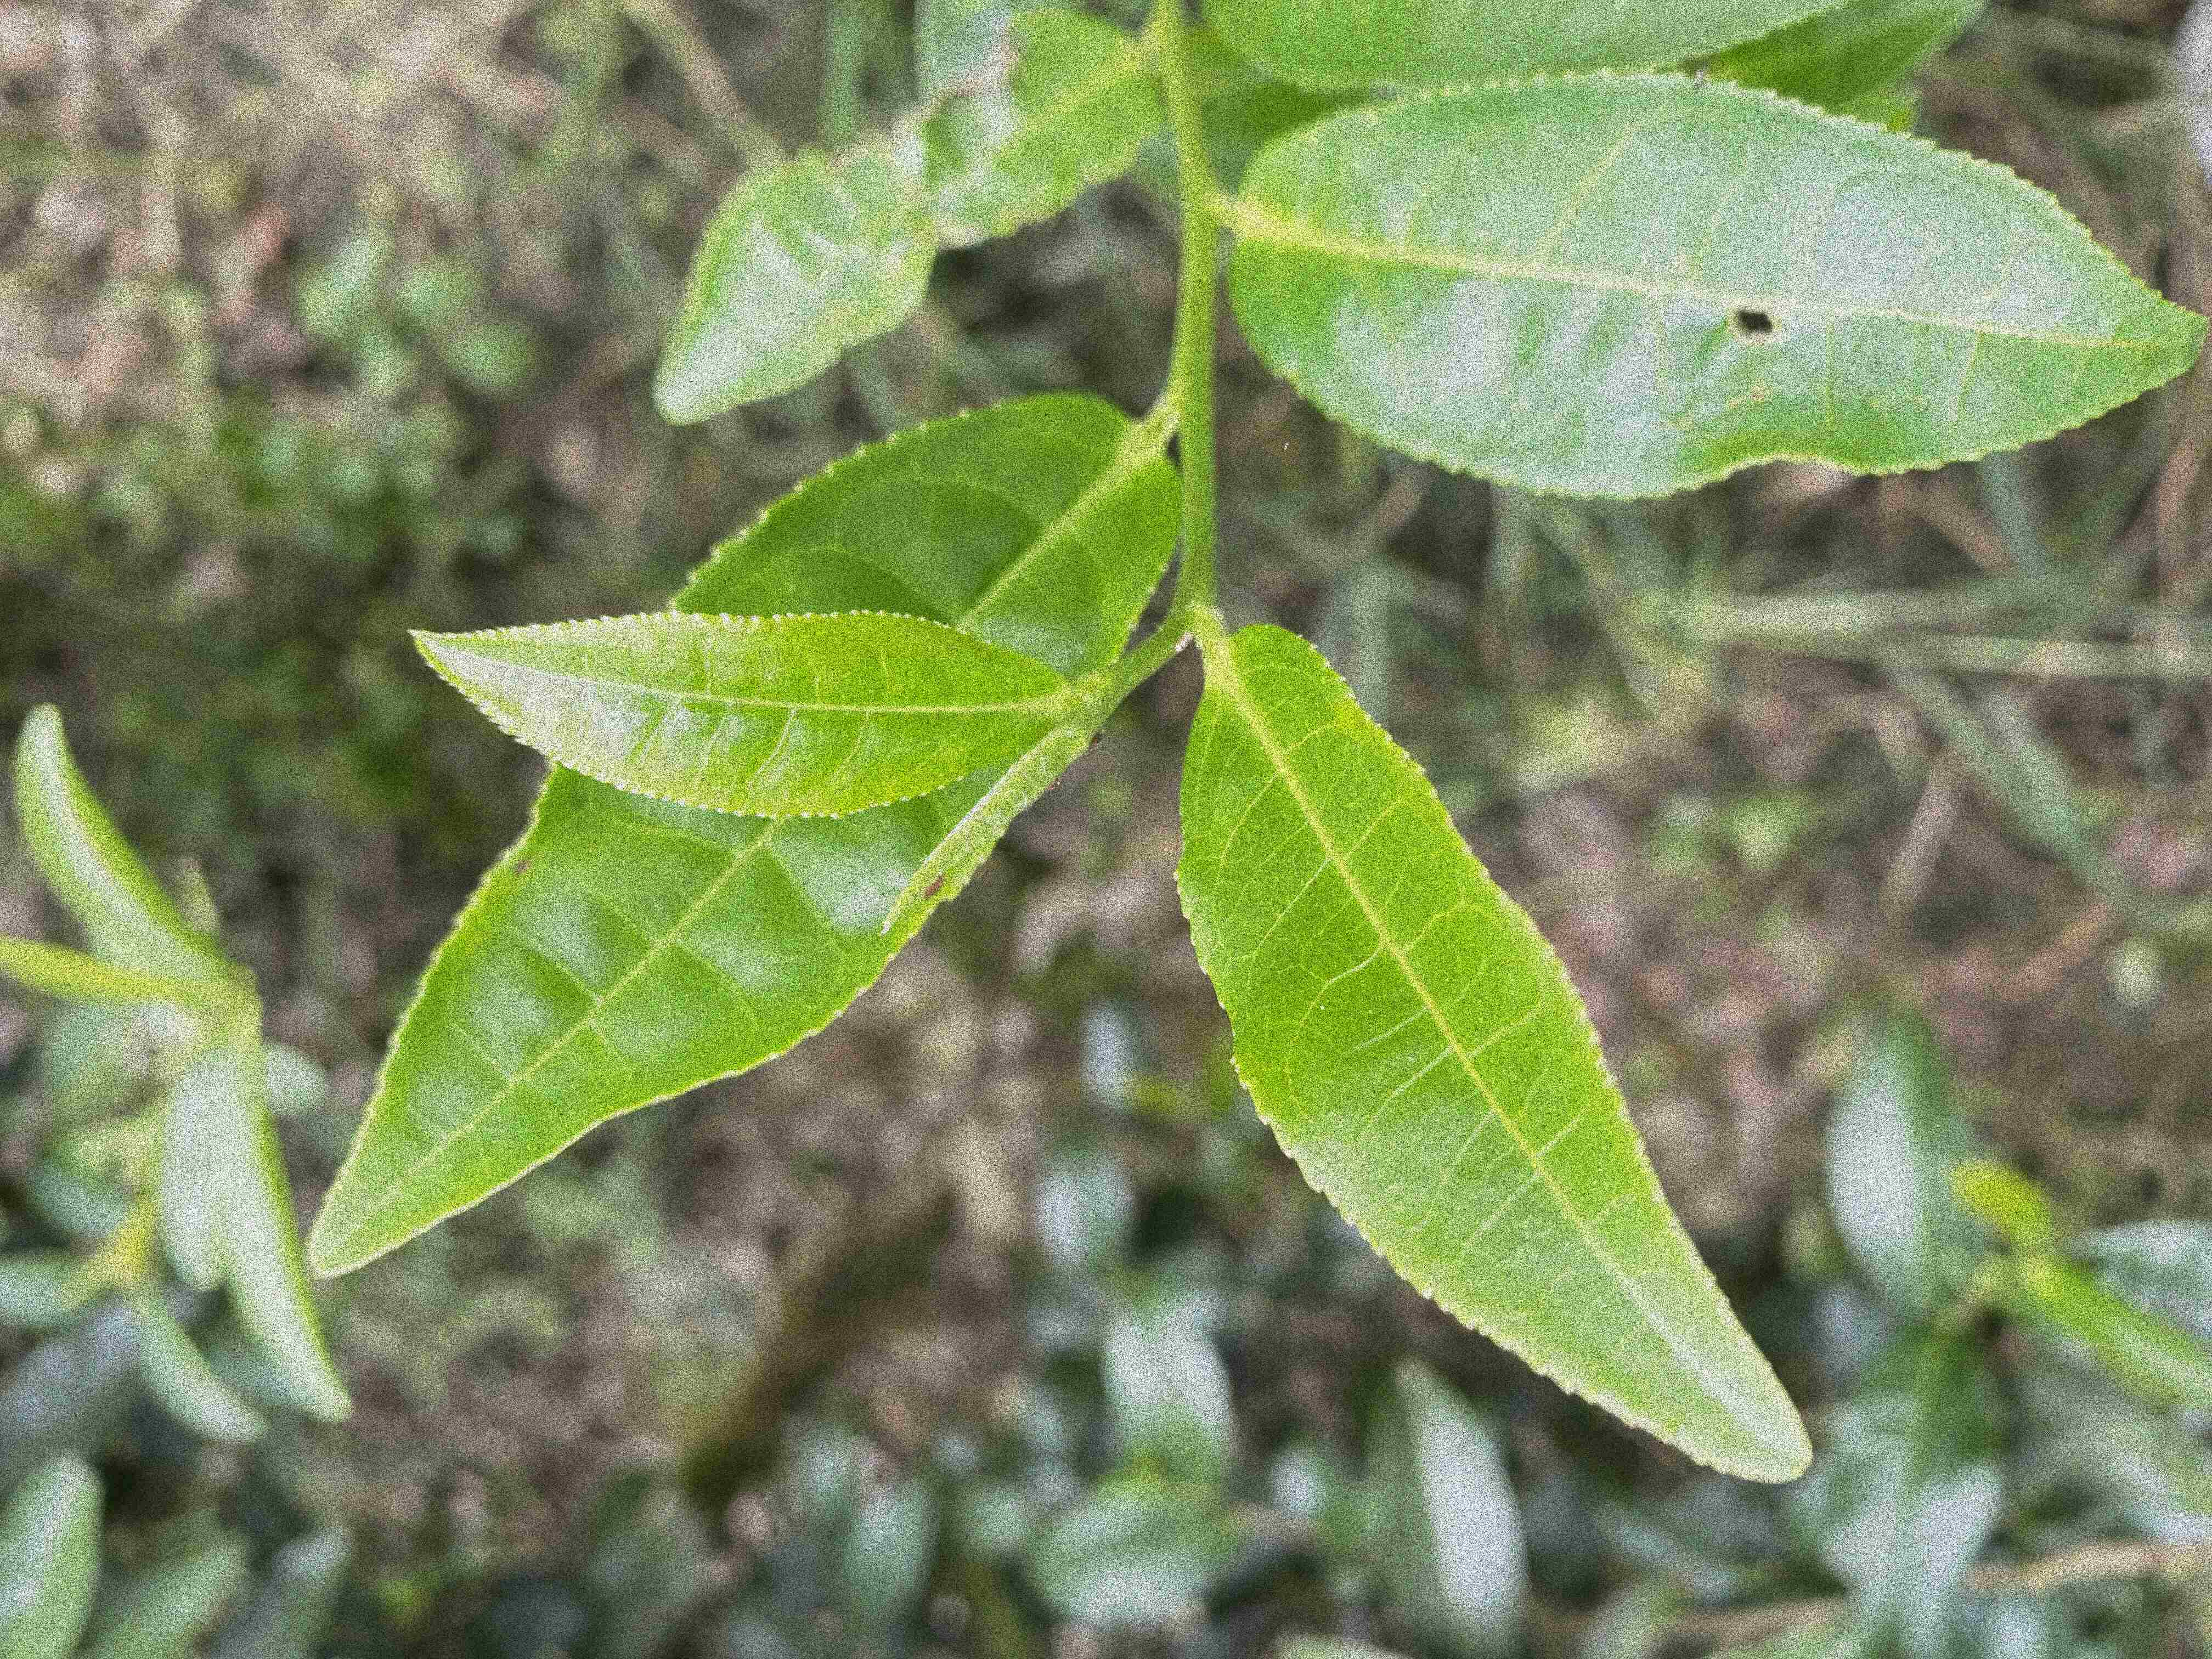chihuo_high: (650, 7, 1167, 425)
chihuo_low: (1231, 63, 2207, 504)
healthy: (310, 394, 1177, 1279), (1167, 627, 1813, 1485), (408, 610, 1066, 823)
